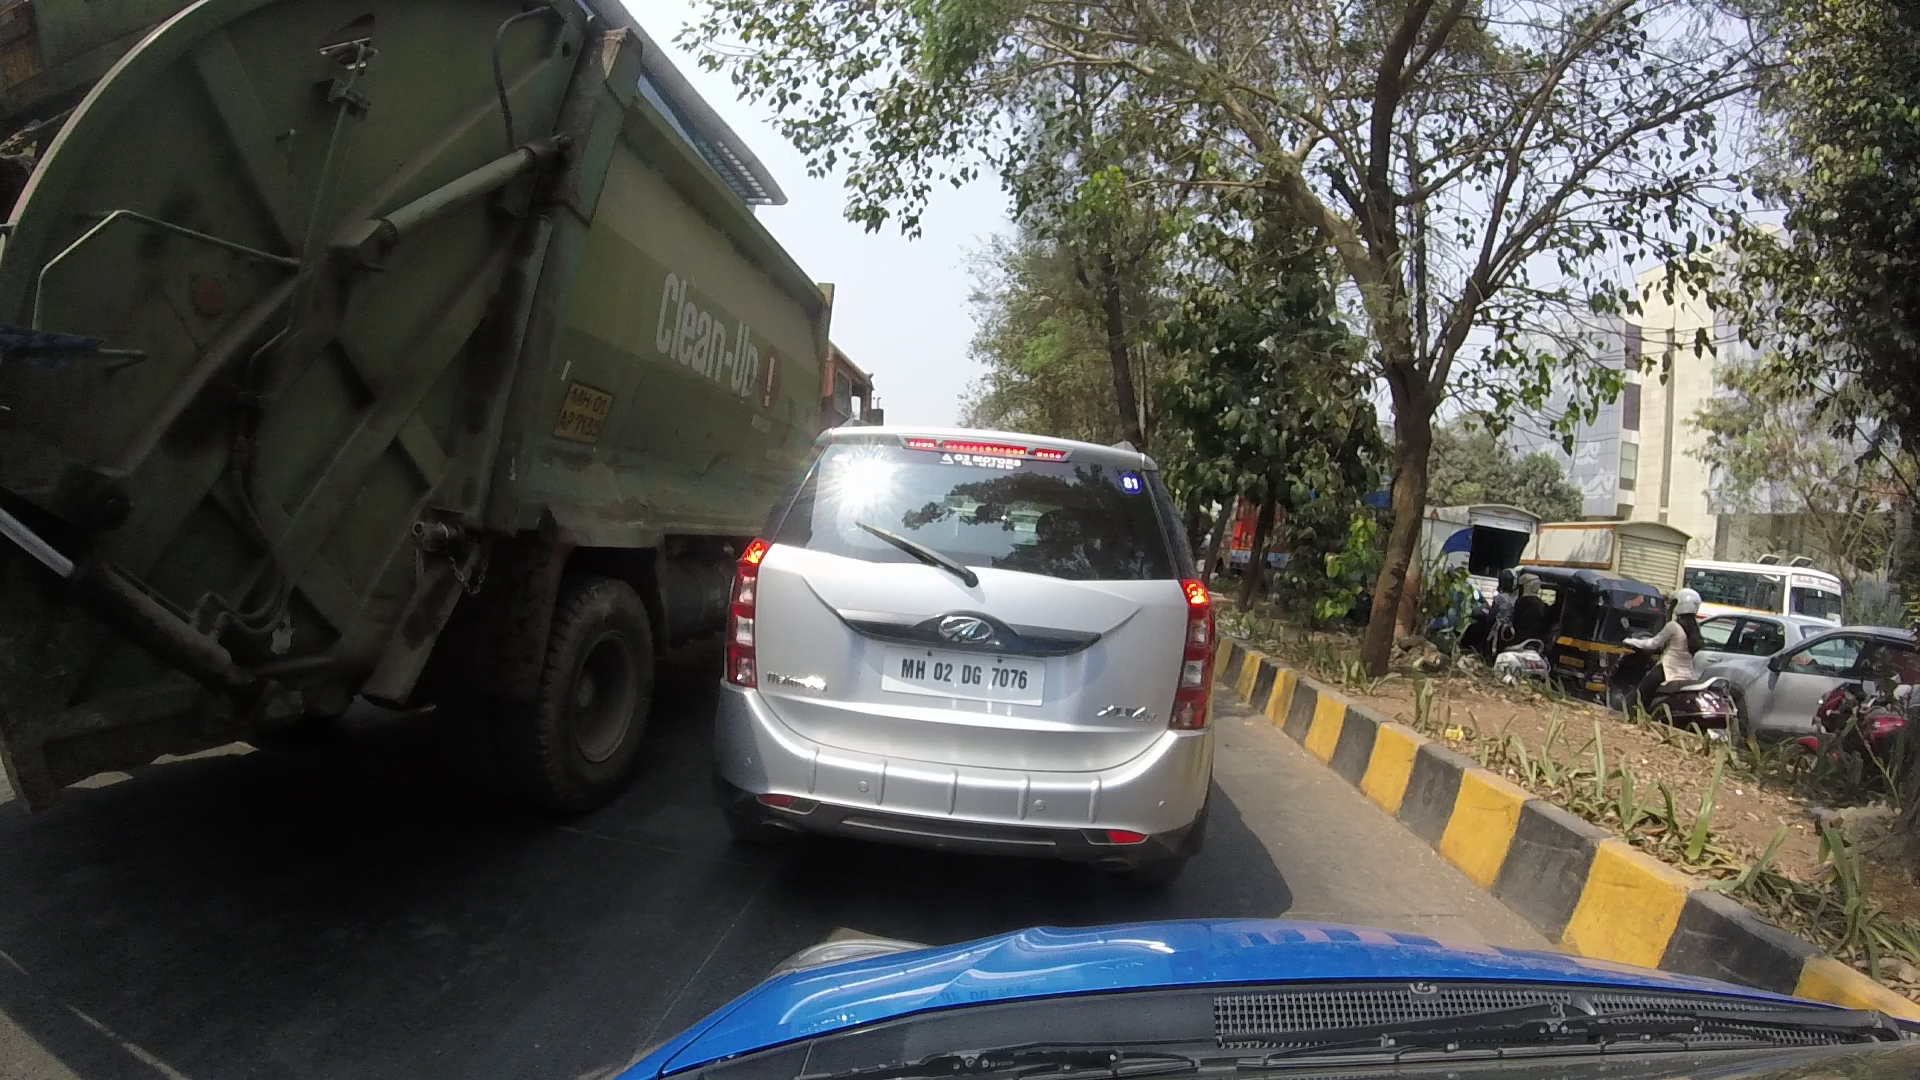car: (704, 404, 1233, 905)
truck: (15, 1, 891, 855)
